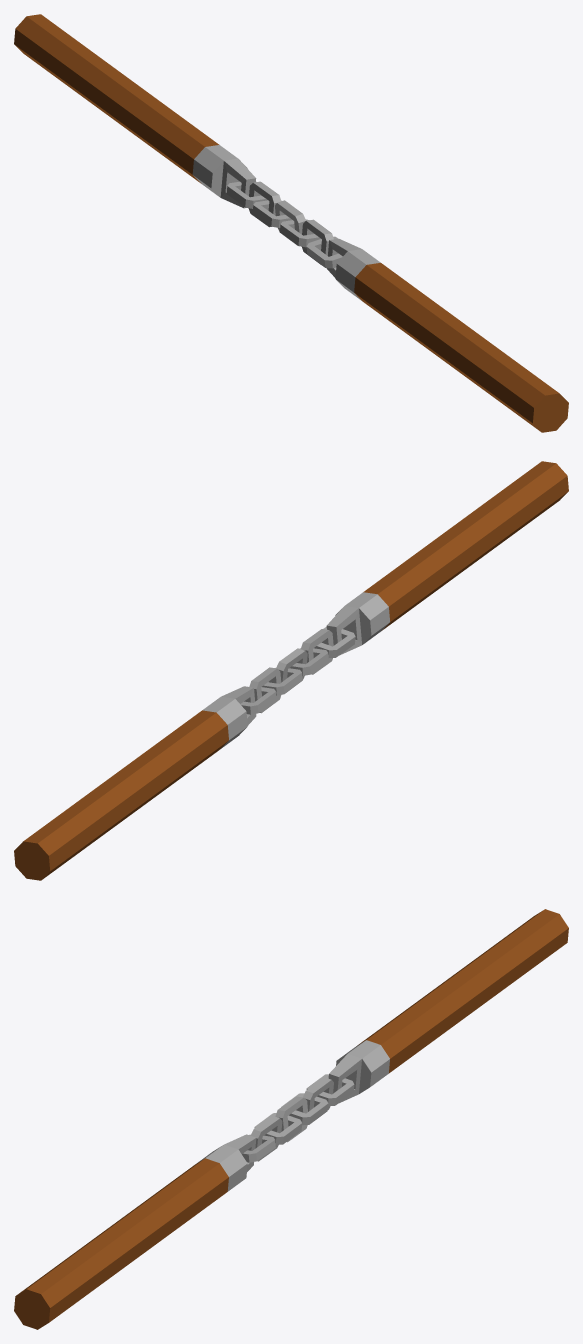
Rendered from Nunchuck - Textured Low Poly Asian Weapon Pack by Kickin It Studios.fbx.
3 renders of one model, top to bottom at view 1: azimuth 30°, elevation 25°; view 2: azimuth 150°, elevation 25°; view 3: azimuth 330°, elevation 25°, orthographic.
Parts seen in each view (by area): view 1: Nunchuck; view 2: Nunchuck; view 3: Nunchuck.
Part boxes in pixels (x1,y1,x2,y2): Nunchuck: [14, 14, 568, 432]; Nunchuck: [14, 461, 568, 880]; Nunchuck: [14, 909, 568, 1329].
Bounding box in the file's own units: 30.6 × 30.2 × 749.
